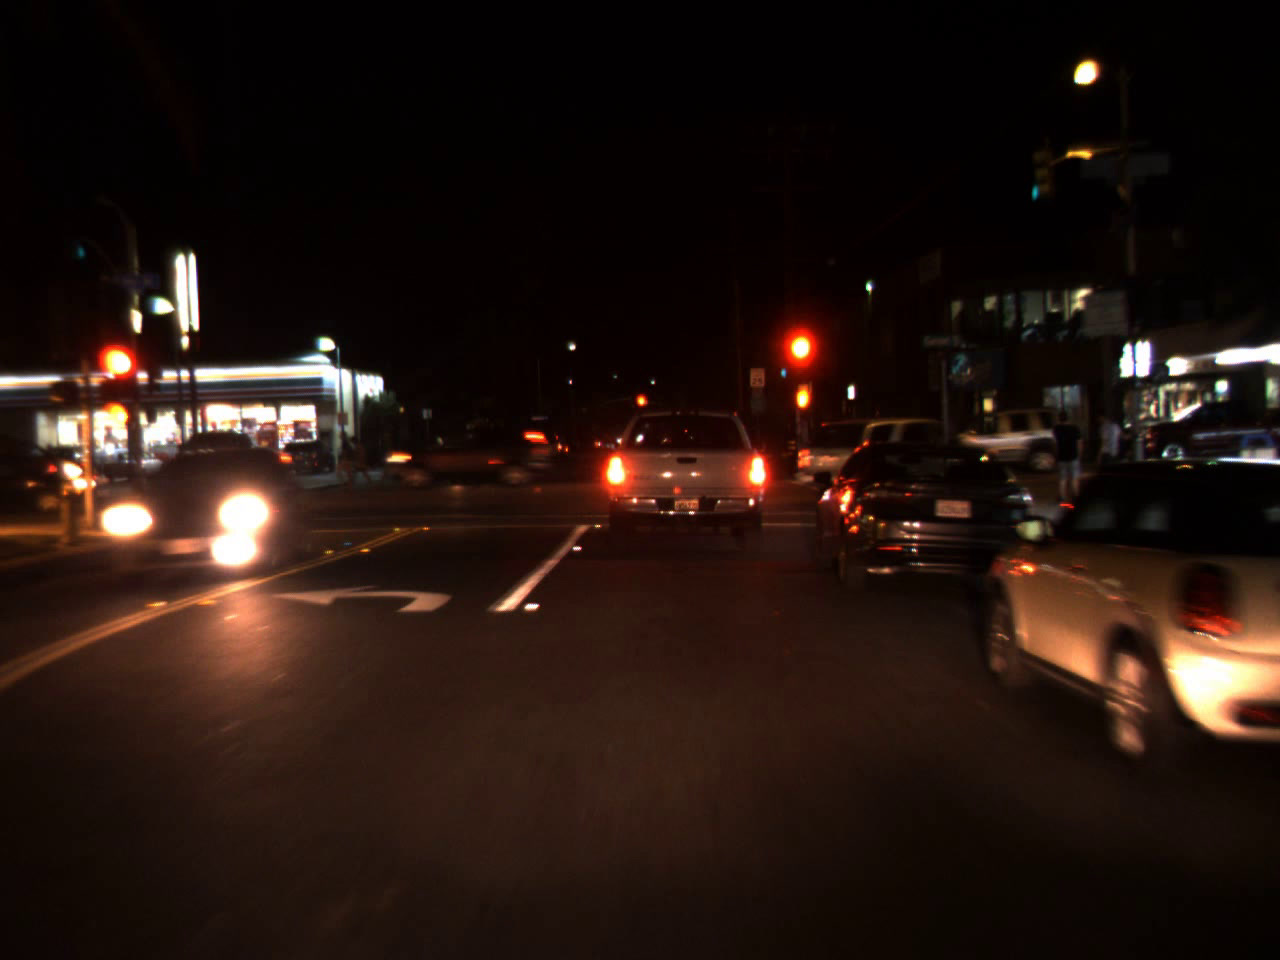stop: (101, 341, 144, 419), (780, 330, 814, 386), (636, 393, 648, 419)
